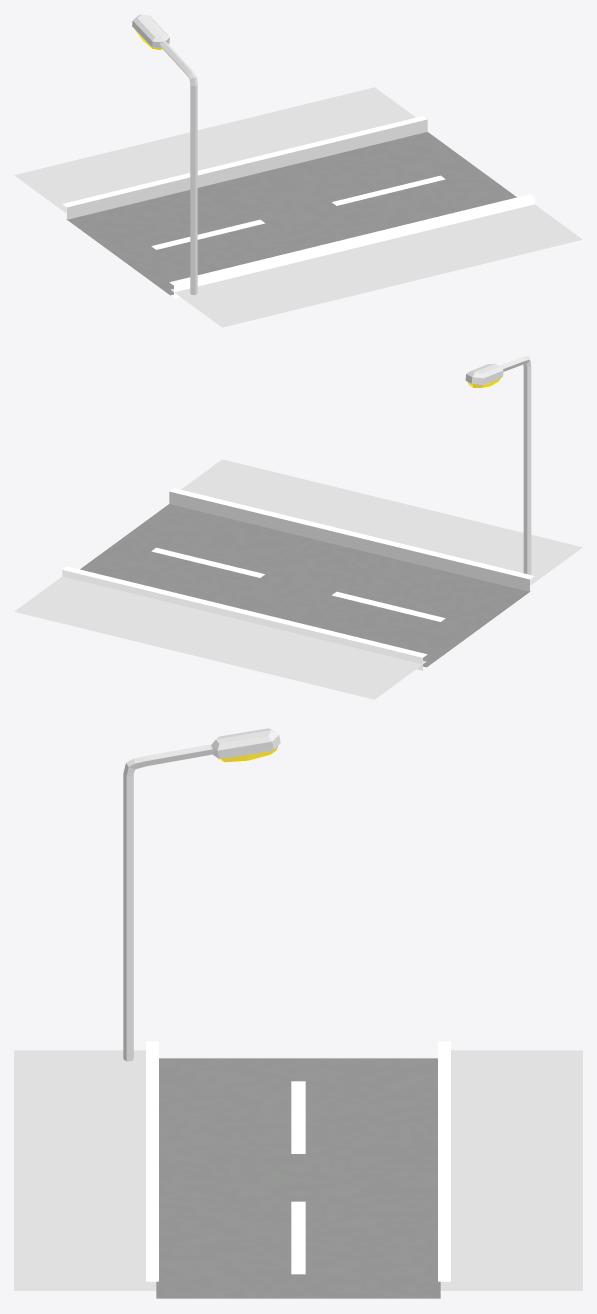
File: road_tile_1x1_1.glb
The picture shows the model from 3 angles, top to bottom: view 1: azimuth 30°, elevation 25°; view 2: azimuth 150°, elevation 25°; view 3: azimuth 270°, elevation 25°; orthographic projection. The views are drawn at different scales.
Visible parts, largest first — view 1: road_tile_1x1_1(Clone); view 2: road_tile_1x1_1(Clone); view 3: road_tile_1x1_1(Clone).
Boxes of the visible parts, x1,y1,x2,y2 form: road_tile_1x1_1(Clone): (14,14,582,327); road_tile_1x1_1(Clone): (14,356,582,699); road_tile_1x1_1(Clone): (14,728,582,1298).
Size of the model in its own units: 8 by 5.25 by 8.
Materials: 1 (1 with a texture image).
